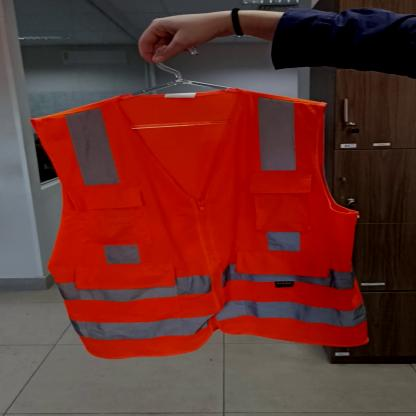colete: (30, 85, 377, 360)
